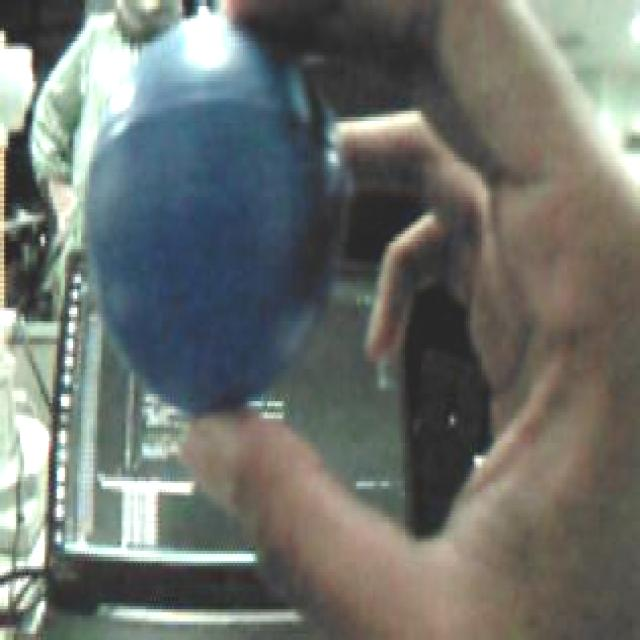BallPurple: (84, 19, 346, 413)
